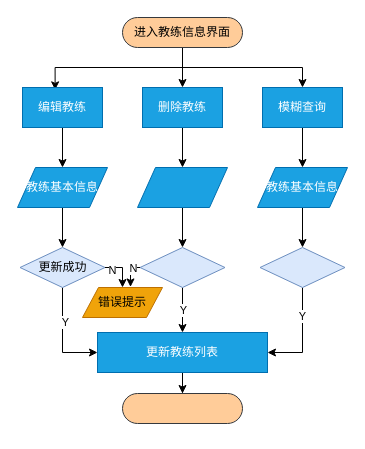
Some shapes in this 365 by 449 pixel diagram are drawn without their labels. The shapes that lost their labels are listed below. From the top down, each one's centre as x and y in pixels, then its label:
At pixel 182 187: "教练编号".
At pixel 182 267: "删除成功".
At pixel 302 267: "查找成功".
At pixel 182 408: "退出教练信息界面".
